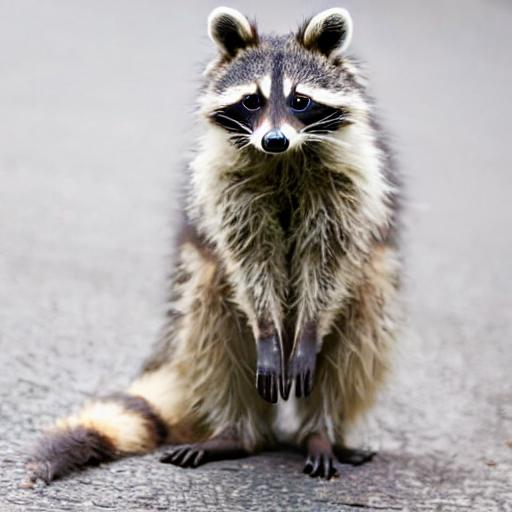raccoon: (28, 8, 417, 488)
